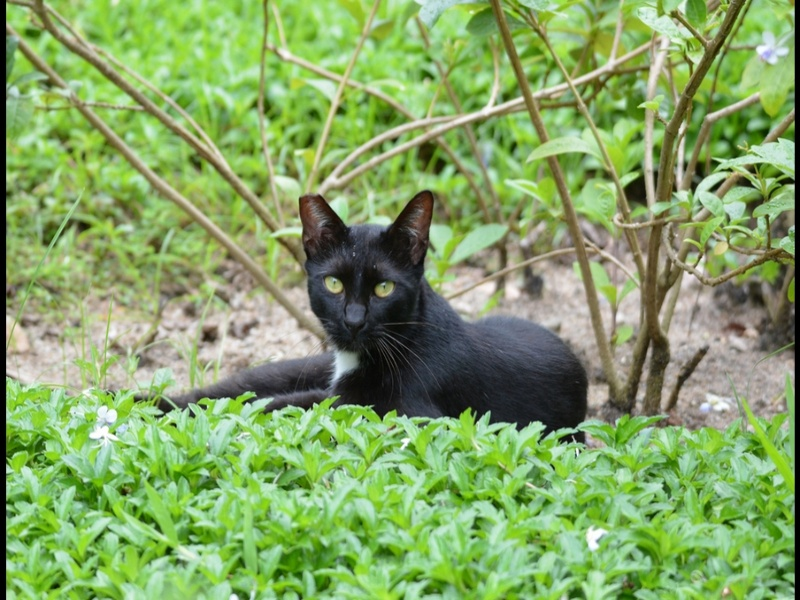cat: (116, 190, 590, 433)
